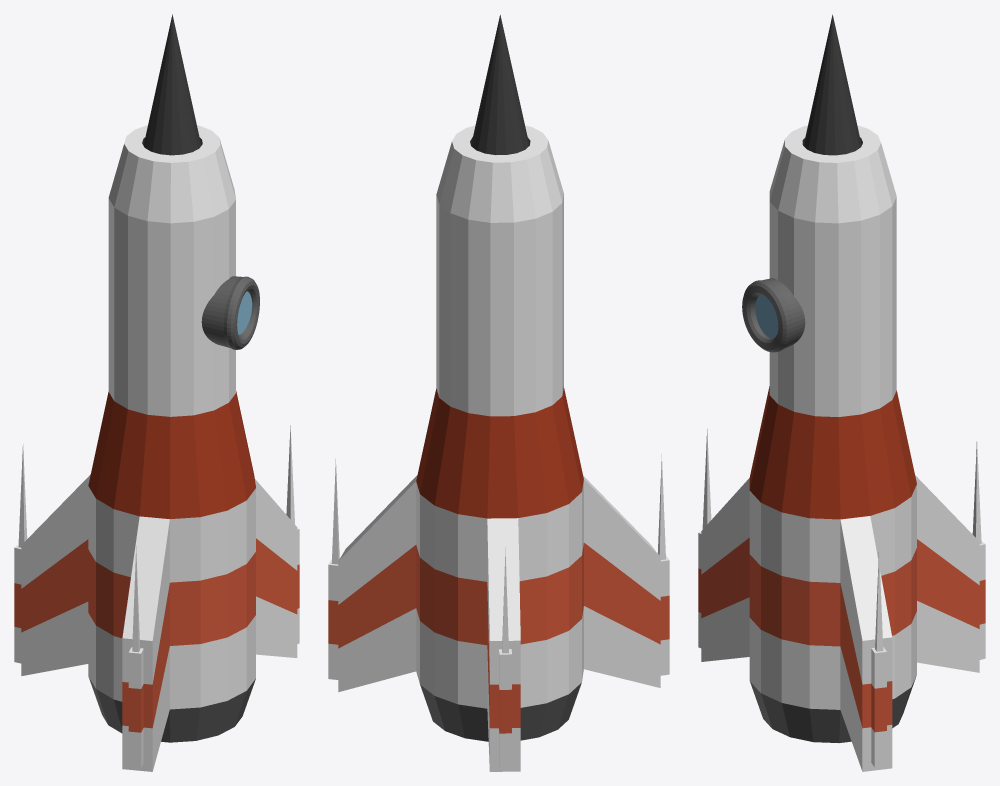
The model's file is rocket-ship.glb.
3 renders of one model, left to right at view 1: azimuth 30°, elevation 25°; view 2: azimuth 150°, elevation 25°; view 3: azimuth 270°, elevation 25°, orthographic.
Parts seen in each view (by area): view 1: Torus; view 2: Torus; view 3: Torus.
Part boxes in pixels (box(x1,y1,x2,y2)): Torus: box(14, 14, 299, 771); Torus: box(328, 15, 669, 771); Torus: box(698, 14, 985, 771).
Size of the model in its own units: 9.87 by 25.87 by 9.64.
Materials: 1 (1 with a texture image).
